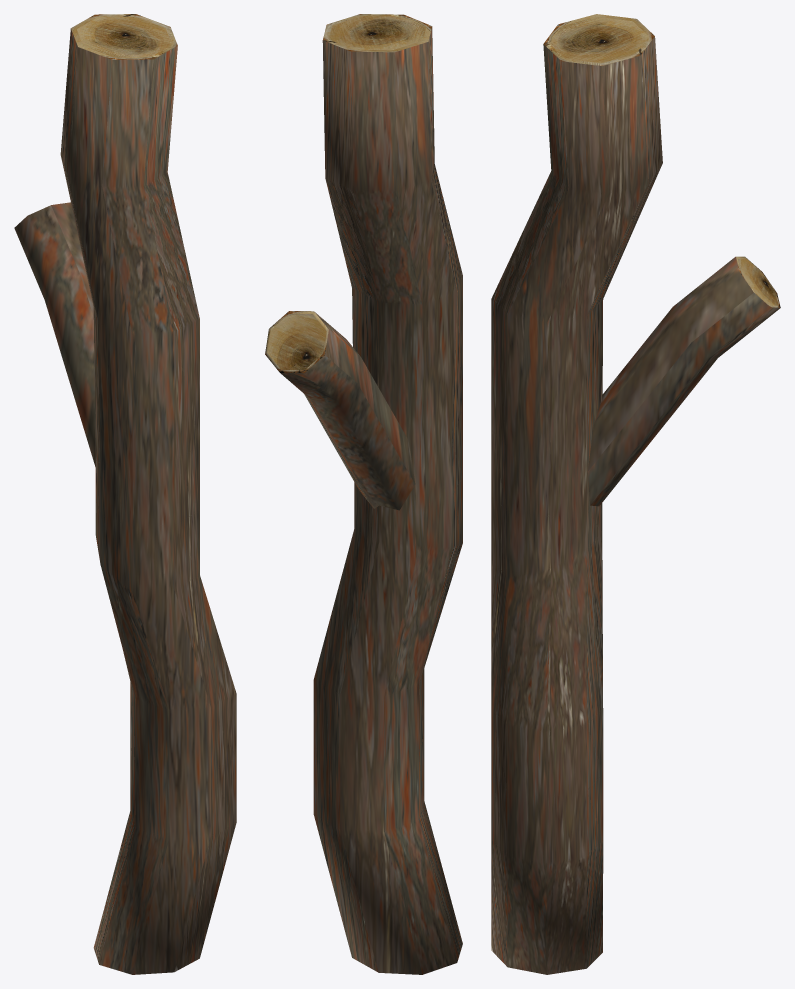
Rendered from branch.glb.
The picture shows the model from 3 angles, left to right: view 1: azimuth 30°, elevation 25°; view 2: azimuth 150°, elevation 25°; view 3: azimuth 270°, elevation 25°; orthographic projection. The views are drawn at different scales.
Parts seen in each view (by area): view 1: branch; view 2: branch; view 3: branch.
Part boxes in pixels (x1,y1,x2,y2): branch: (14,14,236,974); branch: (265,14,462,974); branch: (491,14,780,974).
Bounding box in the file's own units: 0.142 × 0.9052 × 0.2588.
2 materials, 2 textured.
